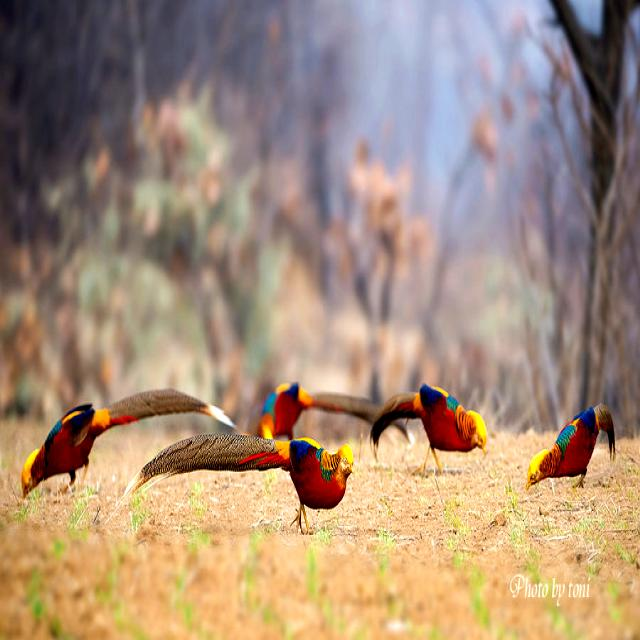Chrysolophus pictus feather: (125, 434, 282, 493), (310, 393, 424, 445), (110, 390, 235, 429), (595, 406, 614, 450)
